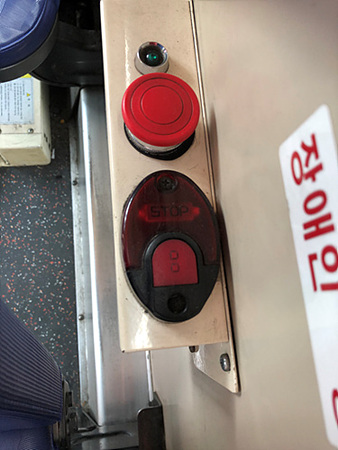bell: (121, 170, 225, 322)
